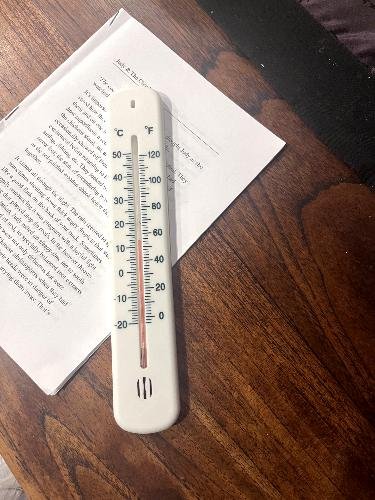thermo: (105, 88, 181, 425)
